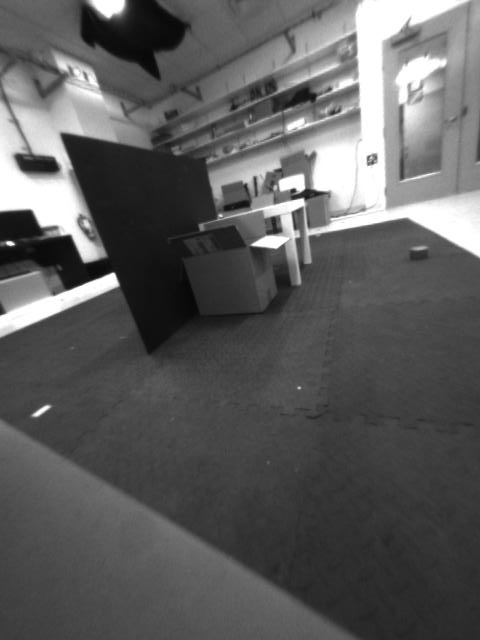dogtoy: (399, 240, 439, 269)
